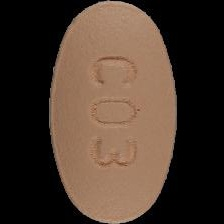61786-641: (0, 0, 224, 224)
